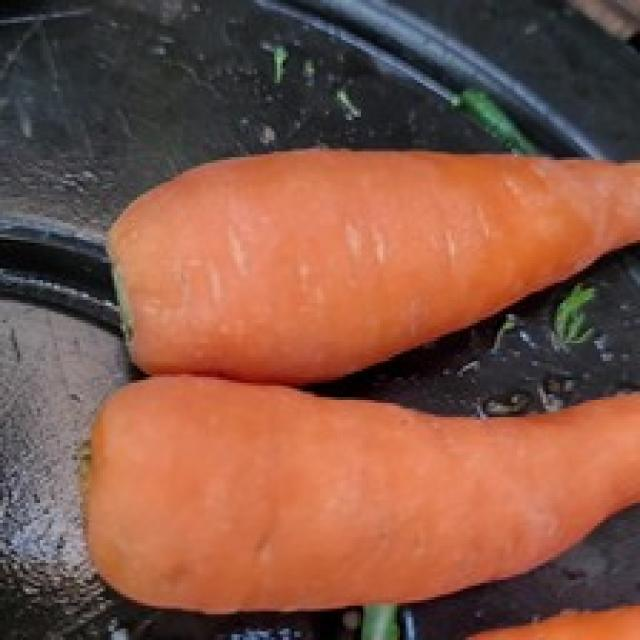Fresh_Carrot: (113, 159, 634, 394), (92, 382, 638, 601)
